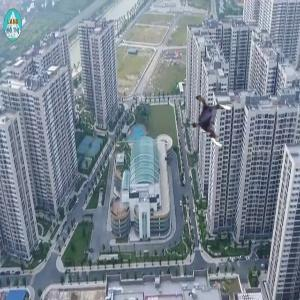drone: (184, 94, 238, 148)
